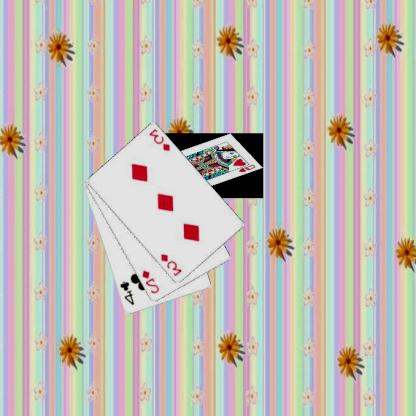2D: (141, 268, 162, 295)
3D: (148, 126, 173, 153), (160, 251, 184, 278)
4C: (119, 278, 137, 306)
